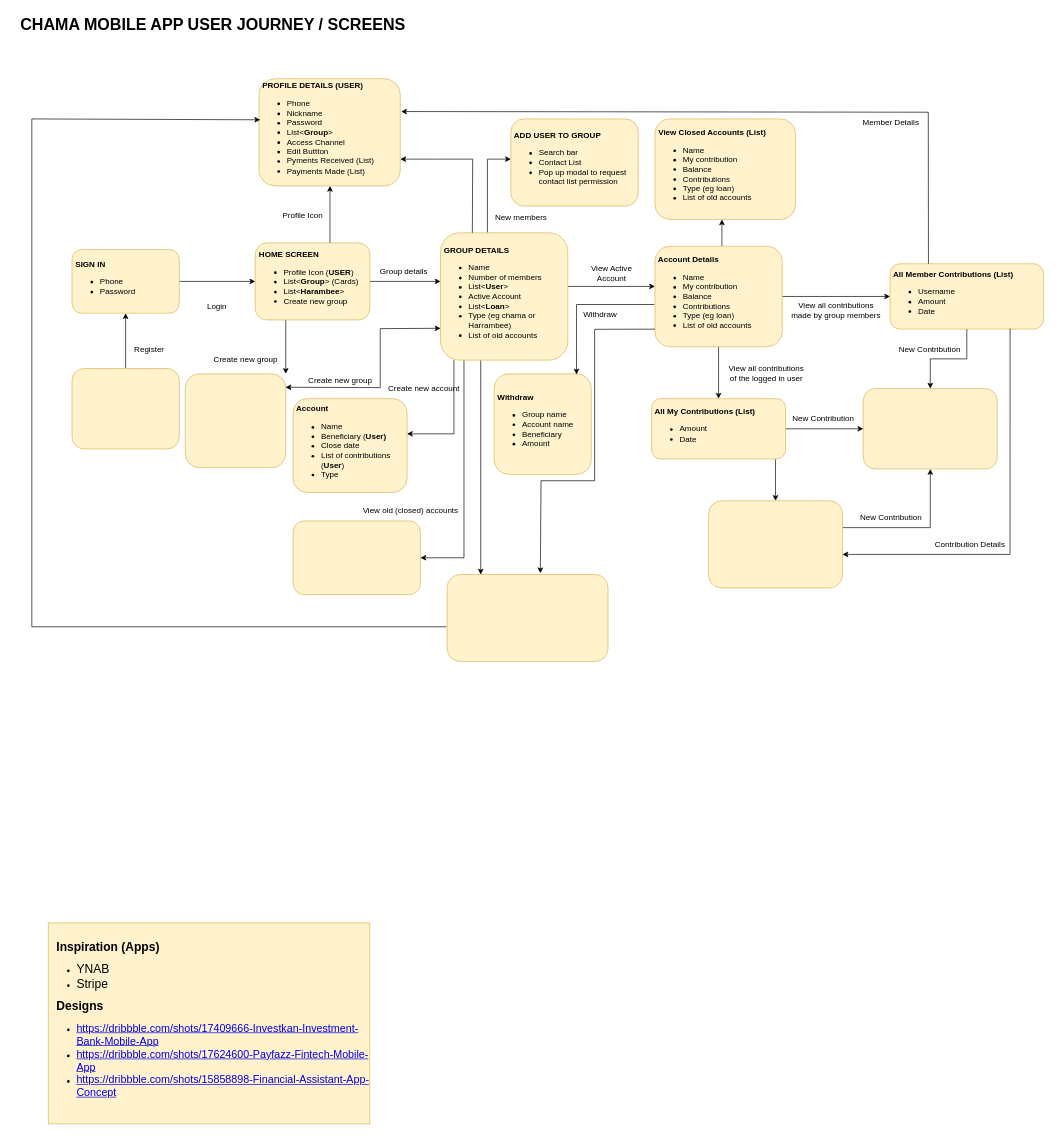
This 1055x1136 diagram has some shape labels left out. Each missing label, with the centre of its shape:
"Contribution Details Username Amount Date Deficit" goes at pixel 775 544.
"GROUP Name List< User > Type (eg chama or Harrambee)" goes at pixel 235 420.
"New Contribution Group Account Amount Date" goes at pixel 930 428.
"OLD ACCOUNTS (List) Name Date closed Beneficiary Amount contributed" goes at pixel 356 557.
"SIGN UP Phone Nickname Password" goes at pixel 125 408.
"VIEW ALL GROUP MEMBERS (List) Name Phone number Date joined" goes at pixel 527 618.
